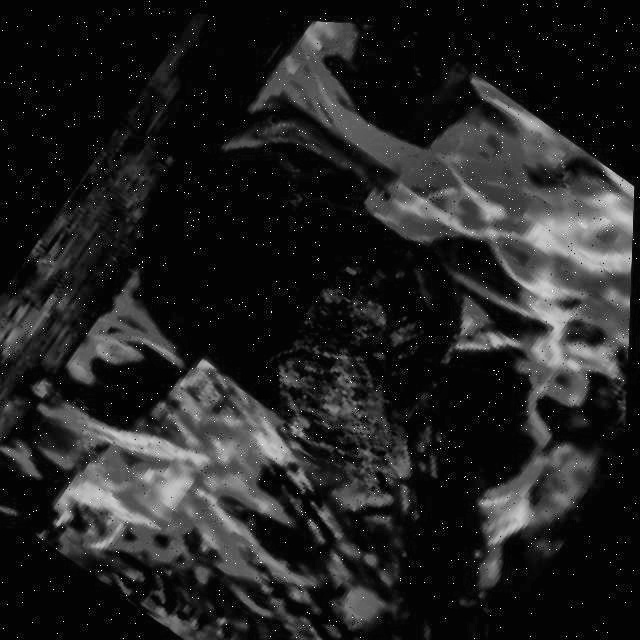Fire: (192, 11, 640, 459), (0, 280, 337, 630)
